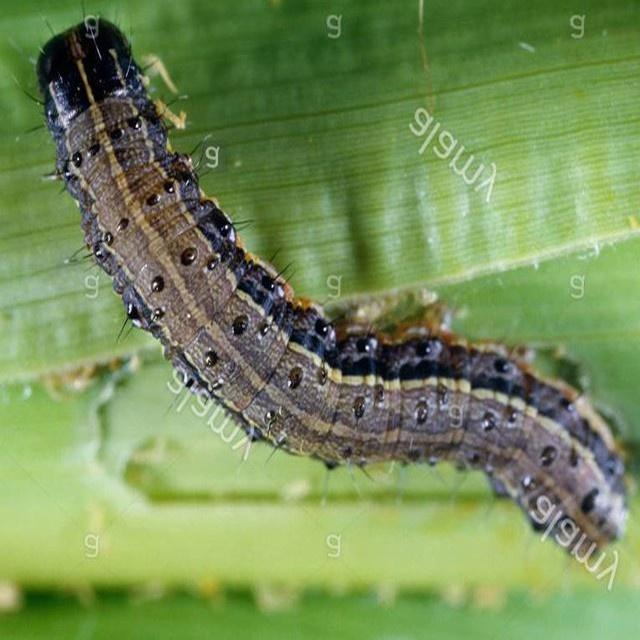Plaga: (19, 14, 640, 571)
